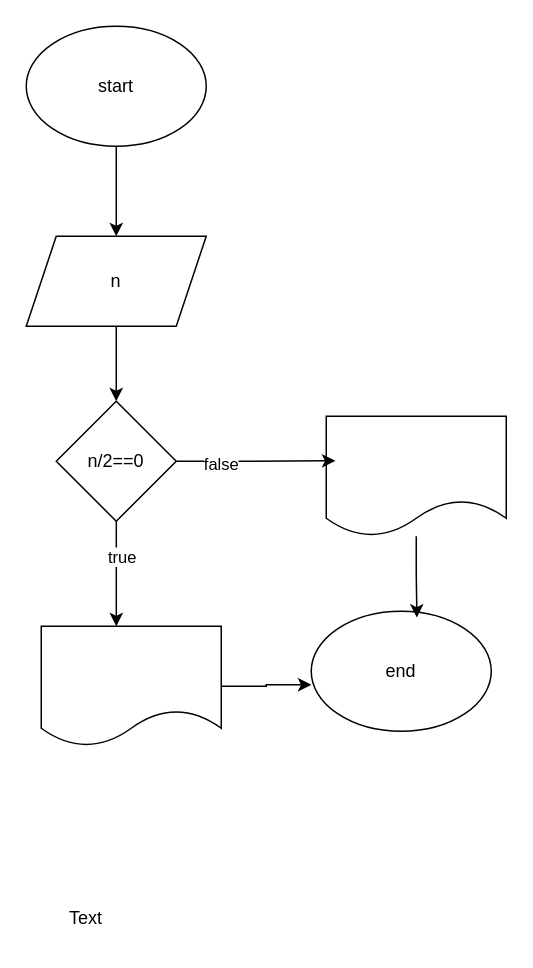
The diagram is 533 pixels wide and 968 high, and some of its shapes have lost their labels. Here are the shapes that lost their labels. From the top down, the centre of each, then its label:
point 415,475: cüt deyil
point 130,685: cütdür
